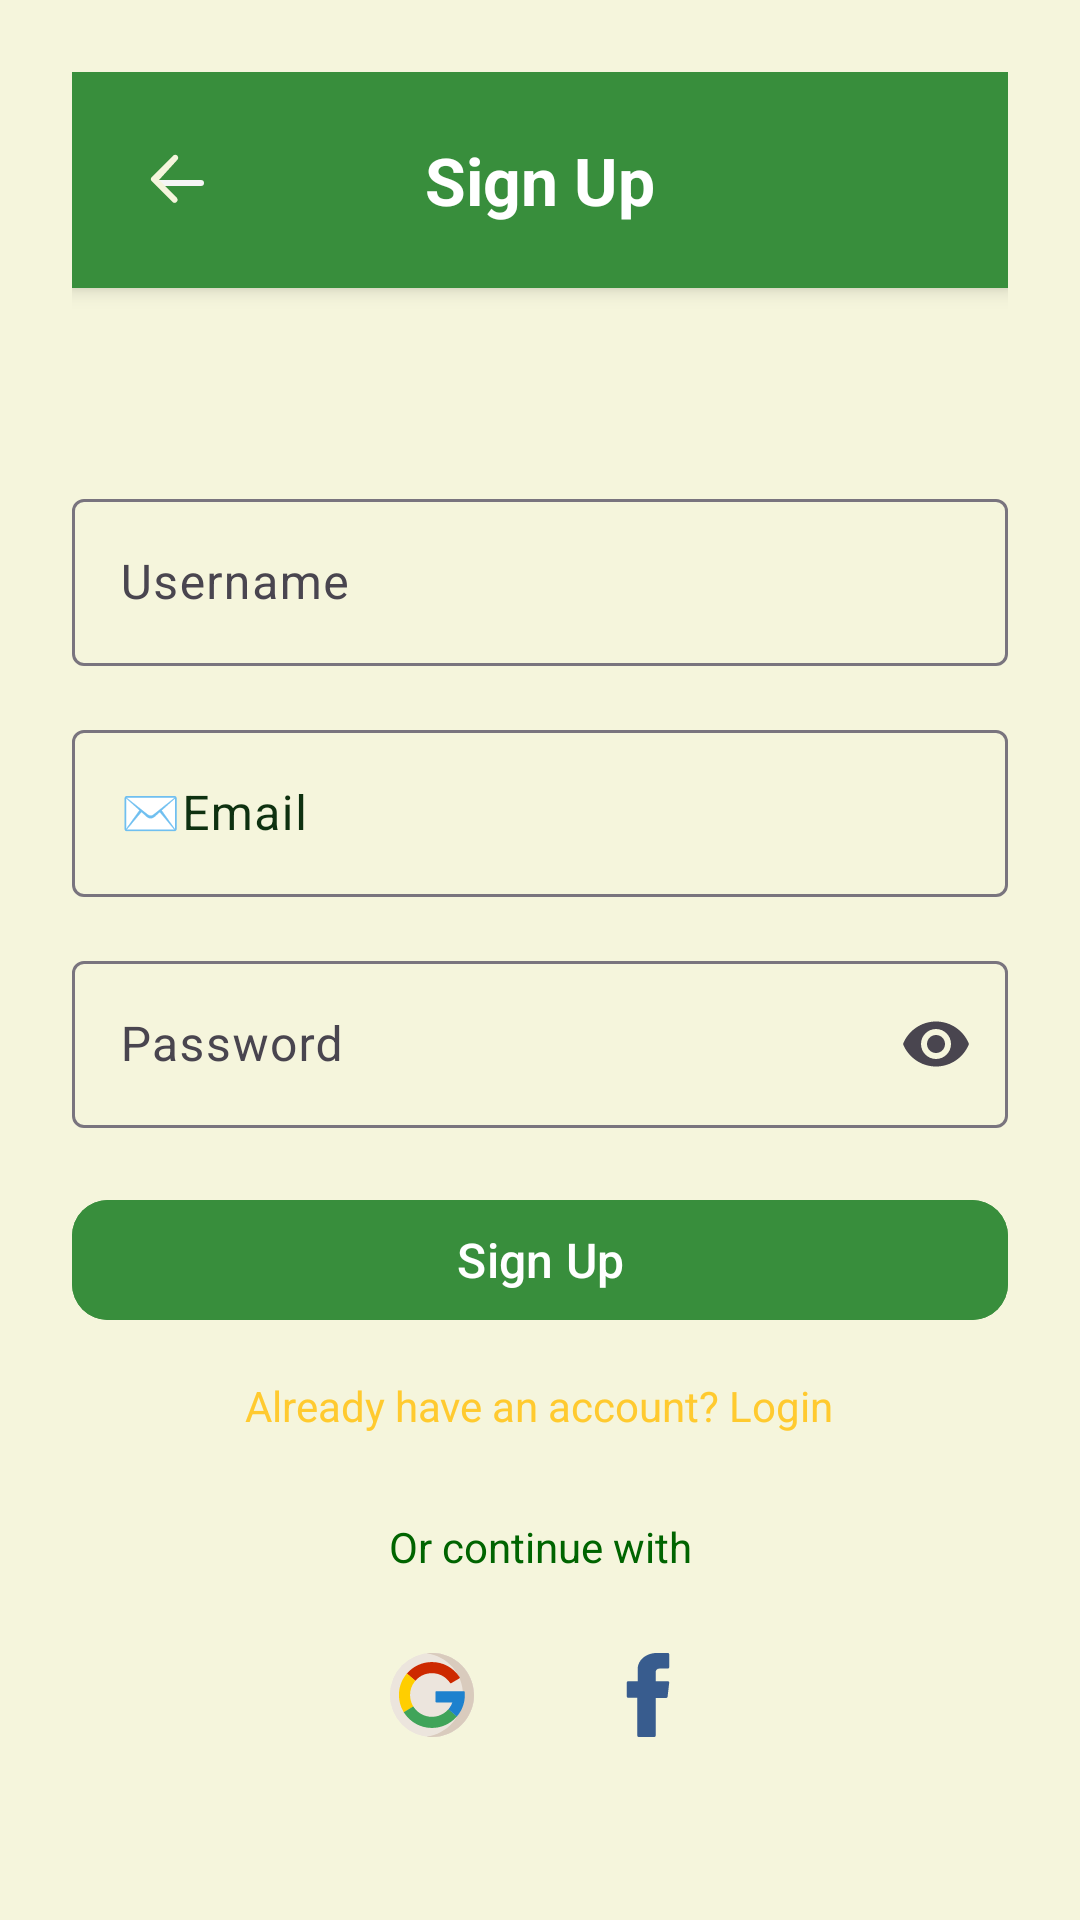

Where icons sit on this 1080w x 1920h app screen, as [x1=x1, y1=y1, x2=x2, y2=y2]:
Back: [x1=151, y1=154, x2=204, y2=203]
